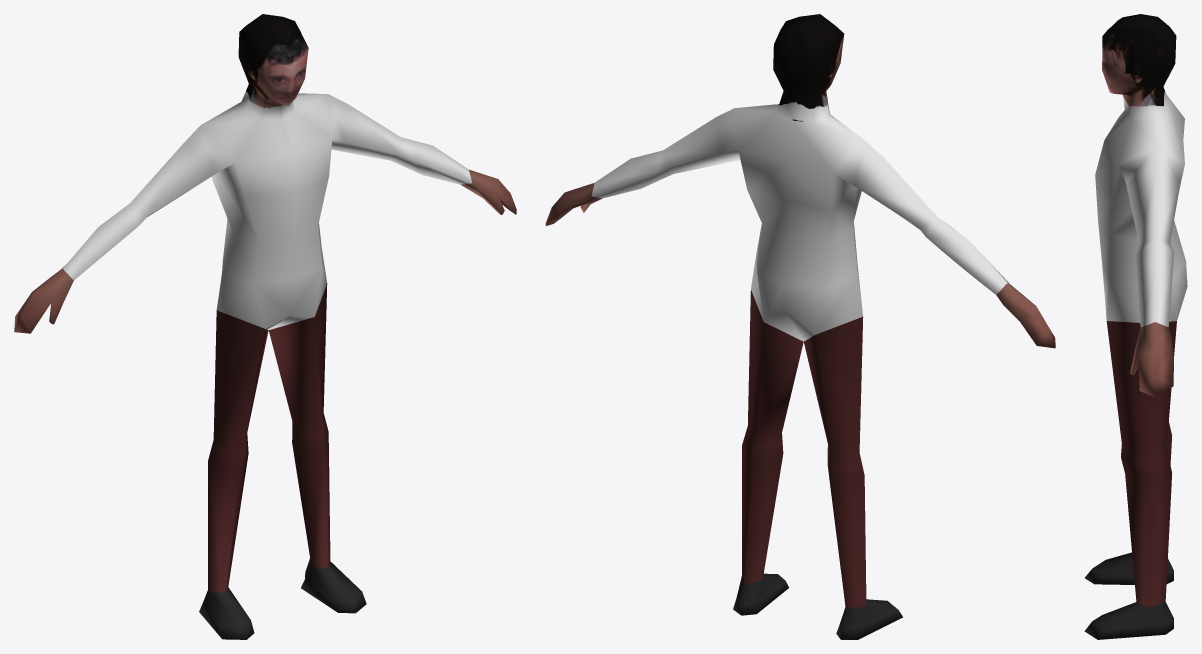
The model's file is 1_Humanoid.fbx.
3 views of the same model, side by side, from view 1: azimuth 30°, elevation 25°; view 2: azimuth 150°, elevation 25°; view 3: azimuth 270°, elevation 25° (orthographic).
Parts seen in each view (by area): view 1: HumanoidBase_Overlapping; view 2: HumanoidBase_Overlapping; view 3: HumanoidBase_Overlapping.
Part boxes in pixels (x1=…): HumanoidBase_Overlapping: x1=14, y1=14, x2=516, y2=639; HumanoidBase_Overlapping: x1=545, y1=14, x2=1055, y2=639; HumanoidBase_Overlapping: x1=1084, y1=14, x2=1187, y2=639.
Bounding box in the file's own units: 161 × 180 × 28.62.
1 material, 1 textured.
